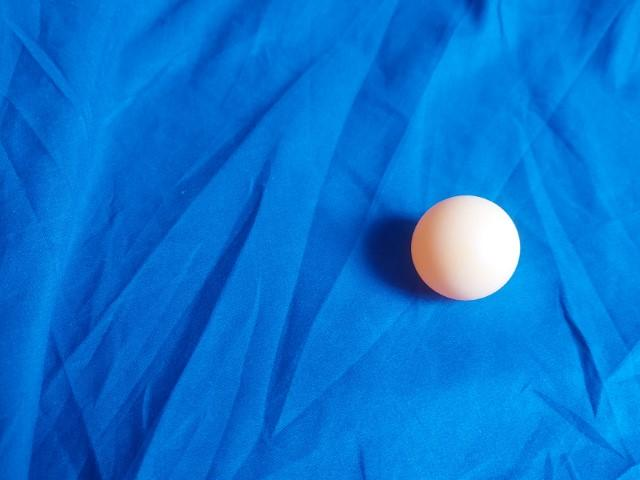oball: (404, 190, 527, 305)
